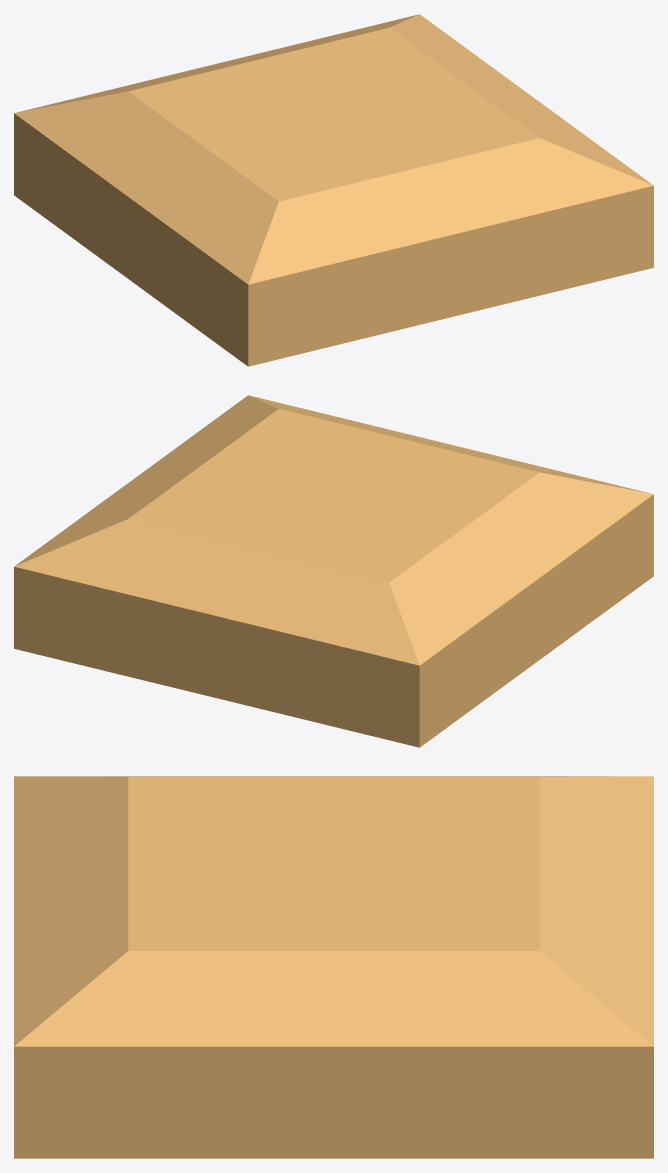
The model's file is boton seguimiento de camara.fbx.
3 views of the same model, one above another, from view 1: azimuth 30°, elevation 25°; view 2: azimuth 150°, elevation 25°; view 3: azimuth 270°, elevation 25° (orthographic). The views are drawn at different scales.
Parts seen in each view (by area): view 1: Cube.007; view 2: Cube.007; view 3: Cube.007.
Boxes of the visible parts, box(x1,y1,x2,y2) form: Cube.007: box(14, 14, 653, 366); Cube.007: box(14, 395, 653, 747); Cube.007: box(14, 776, 653, 1158).
Bounding box in the file's own units: 22.72 × 6.25 × 22.72.
